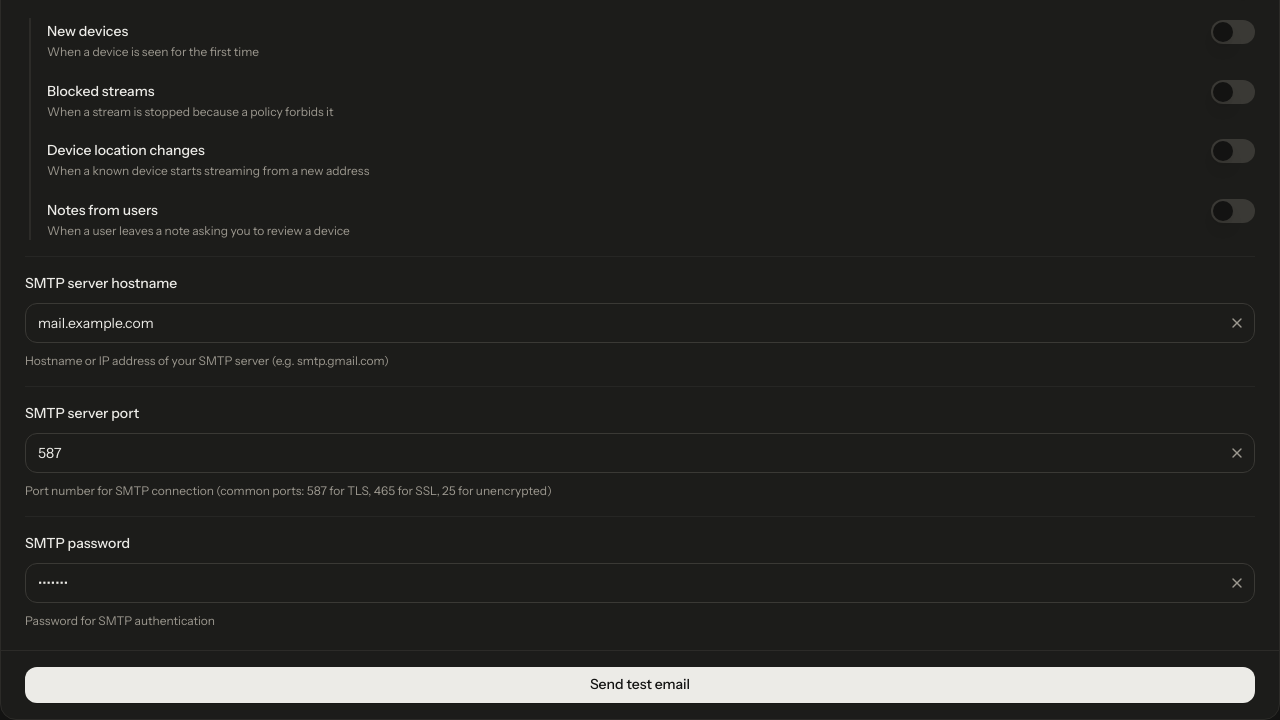
Test case: SMTPSettings › sending a test email › reports the server's failure message
(page scrolled)
Click the button "Send test email": (640, 685) 25,667 -> 1255,703
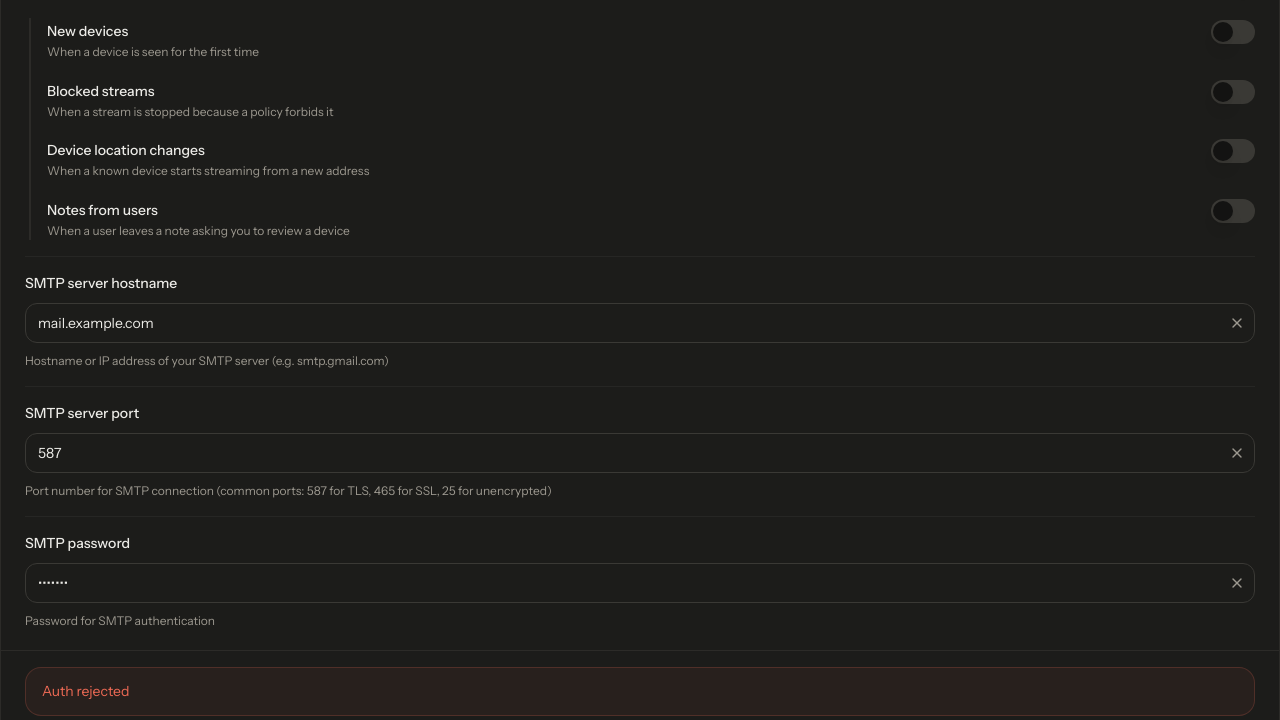
Expected: the text "Auth rejected" is shown, 42,682 -> 130,700
